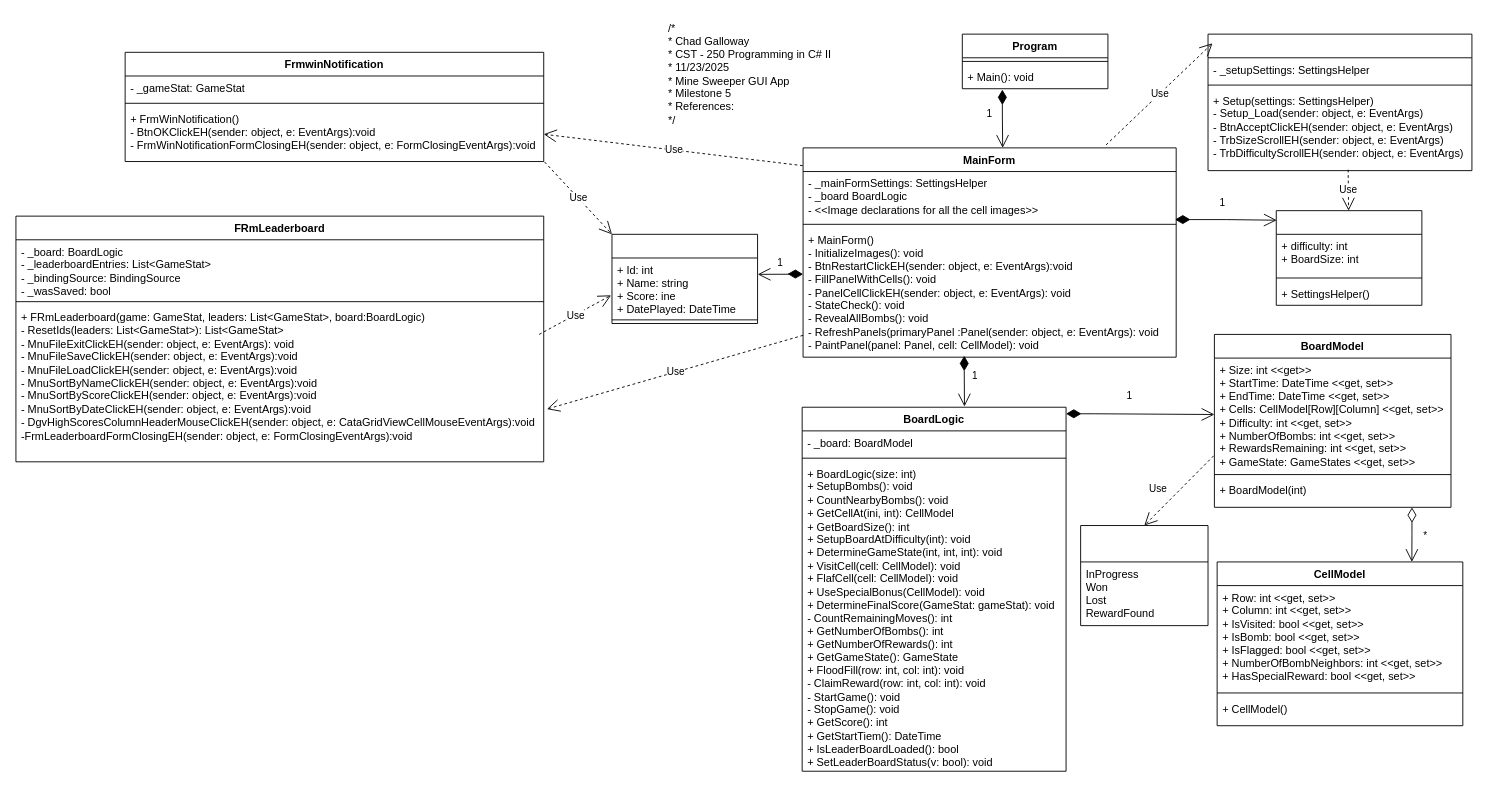
Some shapes in this 1488 by 789 pixel diagram are drawn without their labels. Each missing label, with the box of its shape:
<<enumeration>> GameStates: (1080, 525, 1208, 626)
GameStat: (611, 233, 758, 324)
SettingsDto: (1275, 210, 1422, 305)
SetupForm: (1207, 33, 1472, 171)
